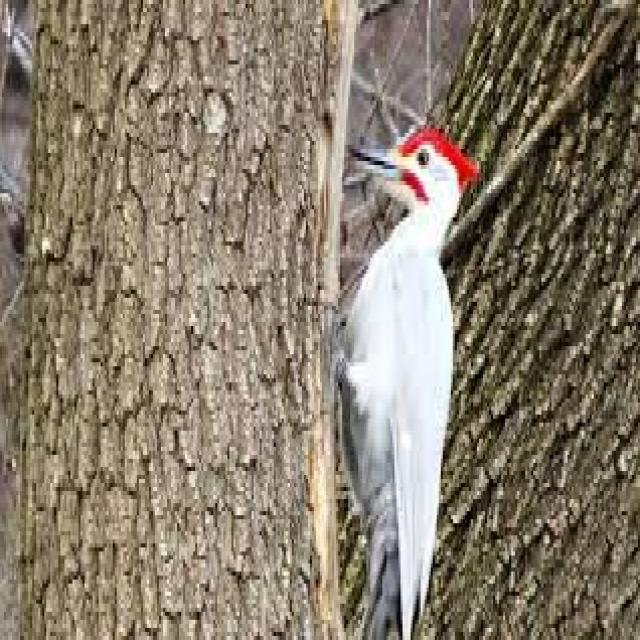Woodpecker: (344, 106, 476, 640)
